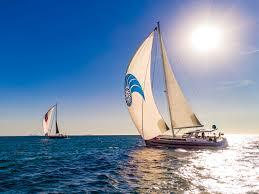Ship: (122, 23, 232, 152), (40, 102, 73, 143)
